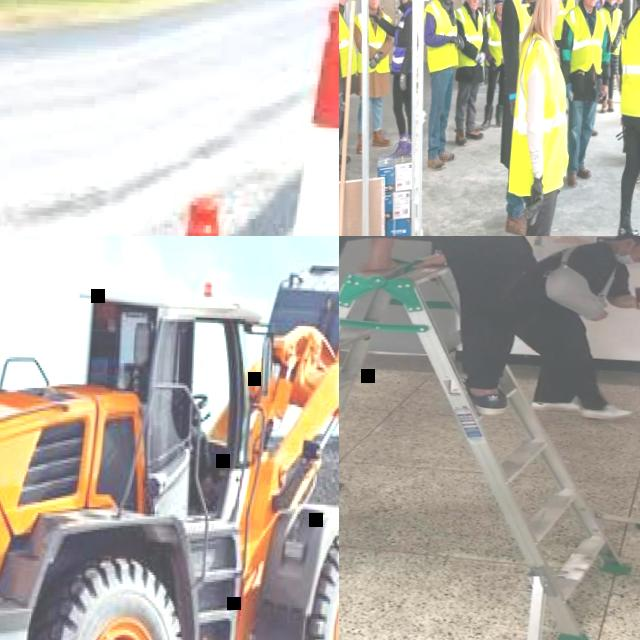Hardhat: (492, 0, 506, 5), (596, 0, 600, 3)
Mask: (614, 240, 636, 266), (399, 0, 404, 5)
NO-Mask: (554, 8, 560, 27), (369, 0, 379, 9), (469, 1, 478, 10), (585, 0, 597, 6), (339, 0, 347, 9), (496, 8, 502, 15), (608, 0, 615, 3), (618, 0, 623, 3)
NO-Safety Vest: (534, 244, 611, 322)
Person: (339, 236, 573, 417), (510, 236, 640, 420), (499, 0, 577, 236), (492, 0, 549, 234), (553, 0, 613, 189), (366, 0, 419, 161), (417, 0, 467, 168), (349, 0, 396, 155), (610, 0, 640, 236), (449, 0, 490, 147), (479, 0, 508, 131), (593, 0, 624, 114), (339, 0, 358, 175), (606, 0, 626, 102), (339, 0, 350, 185), (551, 0, 579, 57), (478, 0, 490, 14)
Safety Cone: (218, 3, 339, 236)
Safety Vest: (509, 29, 575, 196), (562, 3, 608, 73), (421, 0, 461, 74), (353, 9, 393, 72), (617, 8, 640, 117), (453, 4, 486, 70), (502, 0, 536, 63), (391, 5, 413, 76), (339, 2, 359, 77), (481, 11, 506, 66), (597, 5, 623, 54), (552, 0, 577, 40), (616, 6, 624, 44), (481, 0, 490, 14)
vehicle: (0, 240, 339, 640)
